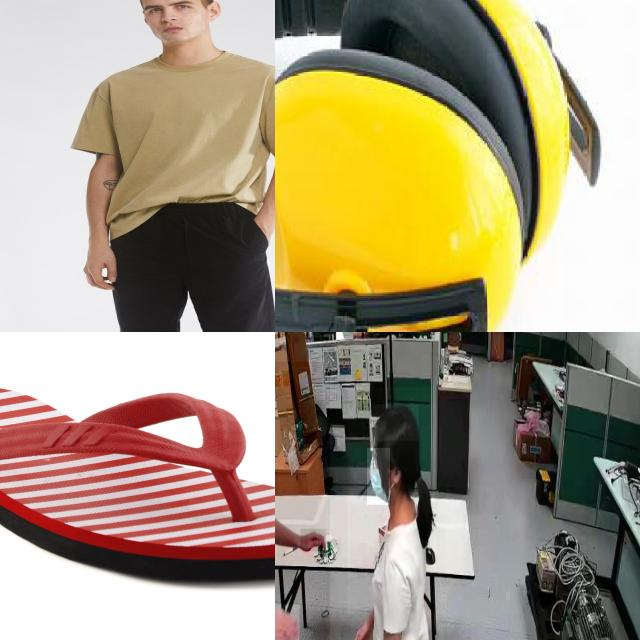Ear-protection: (275, 0, 620, 332)
Sandals: (0, 382, 275, 584)
face_mask: (367, 448, 390, 505)
hand_noglove: (275, 604, 300, 640), (301, 529, 327, 552), (351, 618, 372, 640)
head_nohelmet: (371, 404, 419, 442)
person: (347, 387, 436, 640)
